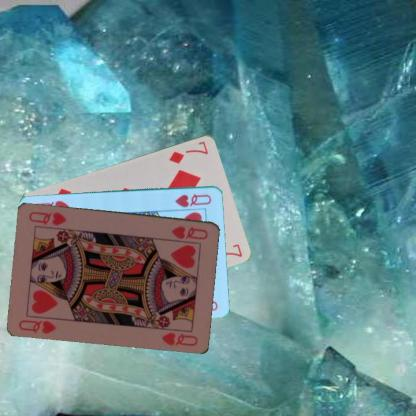7d: (166, 138, 210, 165)
Qh: (17, 316, 58, 335), (168, 223, 210, 241), (172, 191, 213, 209)
